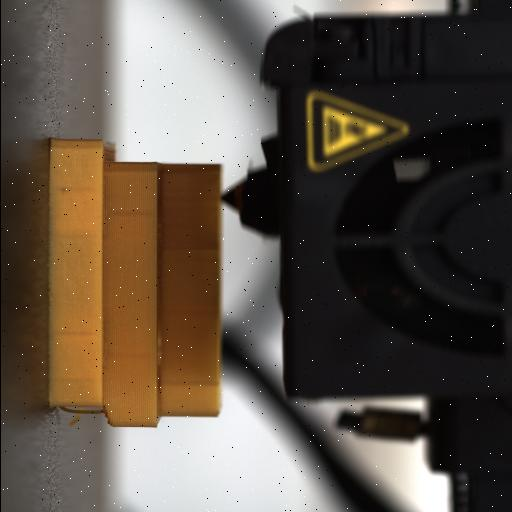layer_shift: (94, 136, 124, 428)
